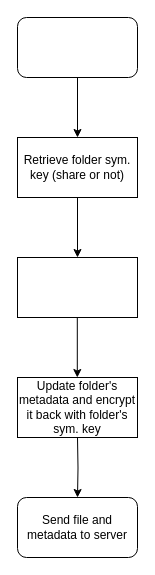
Image size: 155x575. Some labels were removed from this diagram. The box of each missing label's shape, as (x1, y1, x2, y2) in pixels:
Encrypt file content and filename with folder's sym. key: (16, 256, 138, 318)
File creation request: (16, 16, 138, 78)
